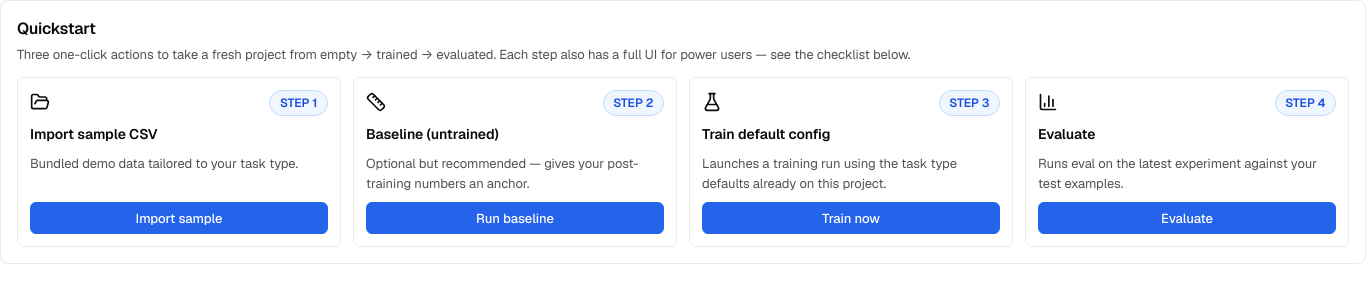
QuickstartCard › runs the baseline action as async Job, flips to queued state + bell hint
The image size is (1366, 281).
Click the button with test id "quickstart-baseline-button".
click(515, 218)  # box [366,202,664,234]
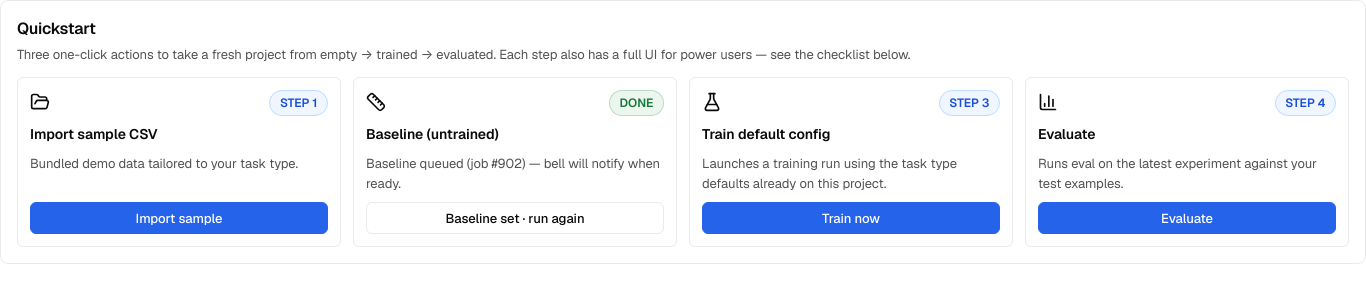
Check: the text with test id "quickstart-baseline-badge" reads "Done", box [620,95,653,111]
Check: the text with test id "quickstart-baseline-description" shows "Baseline queued (job #902) — bell will notify when ready", box [366,155,660,192]
